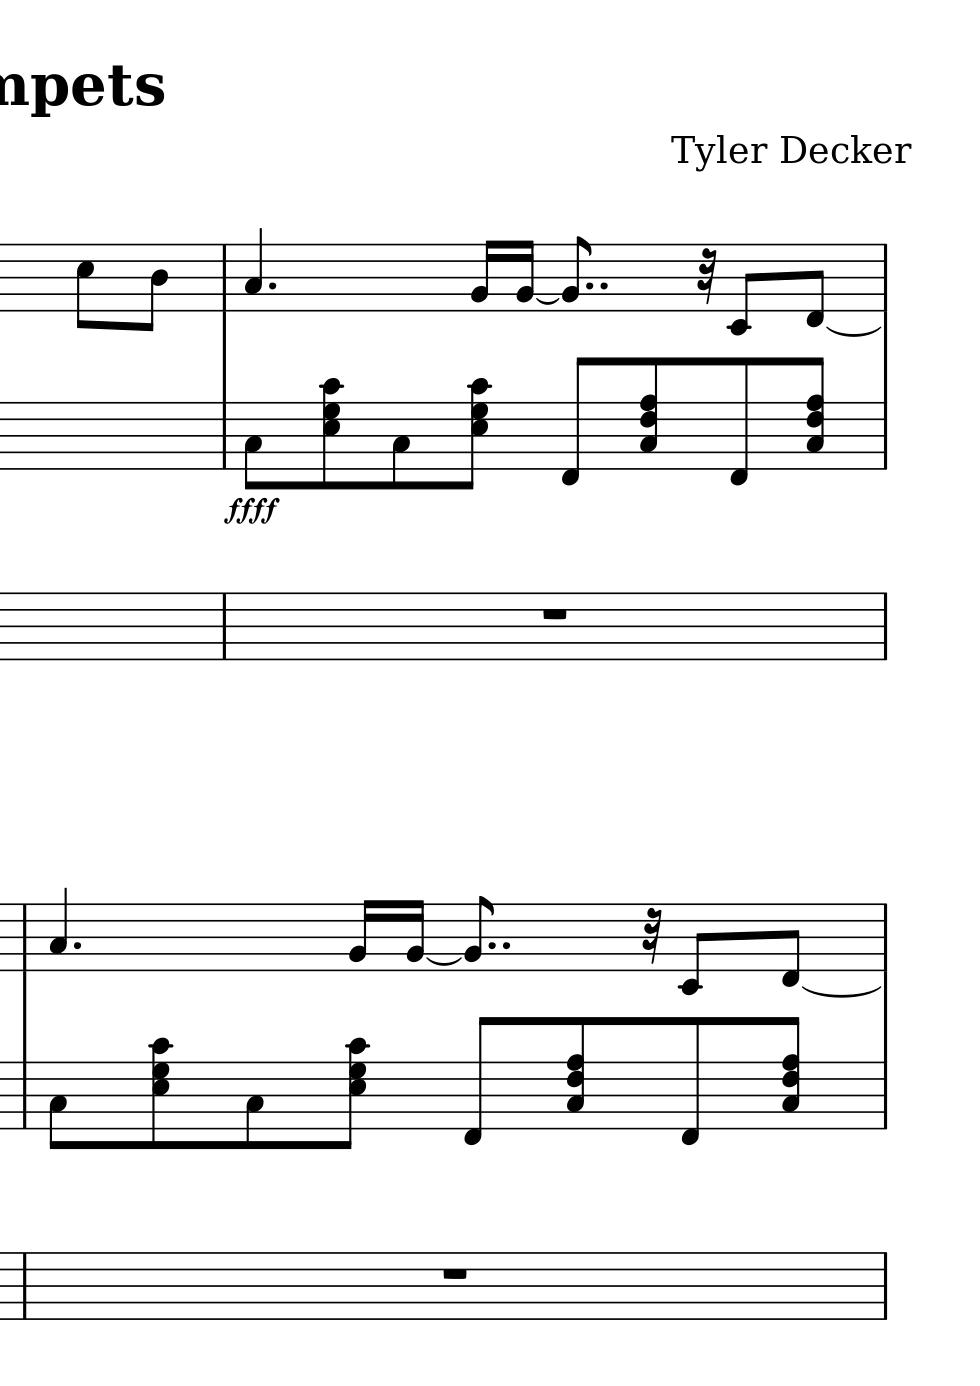16_2: (346, 898, 375, 973), (469, 238, 497, 313), (404, 898, 426, 973), (514, 238, 535, 313)
4_3: (47, 885, 69, 973), (242, 227, 264, 314)
8_-1: (555, 354, 592, 487), (458, 1015, 494, 1147), (675, 1013, 702, 1147), (724, 354, 751, 488), (803, 242, 826, 329), (778, 902, 801, 988)
8_-2: (677, 902, 708, 999), (727, 241, 757, 340)
8_2: (560, 233, 591, 312), (462, 894, 493, 972)
8_3: (243, 1059, 266, 1152), (389, 400, 412, 491), (46, 1060, 68, 1152), (241, 400, 263, 489)
8_4: (139, 242, 169, 334)
8_5: (73, 242, 95, 332)
8_th: (335, 1034, 372, 1152), (459, 375, 494, 492), (313, 374, 347, 490), (144, 1034, 176, 1151), (561, 1018, 588, 1135), (638, 356, 662, 470), (781, 1015, 802, 1129), (805, 355, 825, 472)
Double_dot: (582, 278, 609, 294), (485, 938, 511, 953)
Rests1: (537, 606, 571, 624), (438, 1265, 471, 1283)
Rests32: (638, 906, 662, 968), (695, 246, 718, 308)
Single_barline: (214, 402, 235, 469), (214, 593, 234, 660), (874, 1063, 894, 1129), (875, 243, 894, 313), (874, 403, 894, 469), (15, 1062, 34, 1129), (875, 593, 894, 660), (14, 1253, 33, 1319), (15, 903, 33, 971), (876, 1252, 894, 1319), (215, 245, 233, 311), (878, 903, 893, 972)
Slur: (803, 985, 882, 998), (826, 324, 882, 338), (424, 957, 463, 967), (532, 297, 562, 305)
dot: (265, 279, 279, 293), (70, 938, 83, 953)
ffff: (221, 494, 283, 529)
